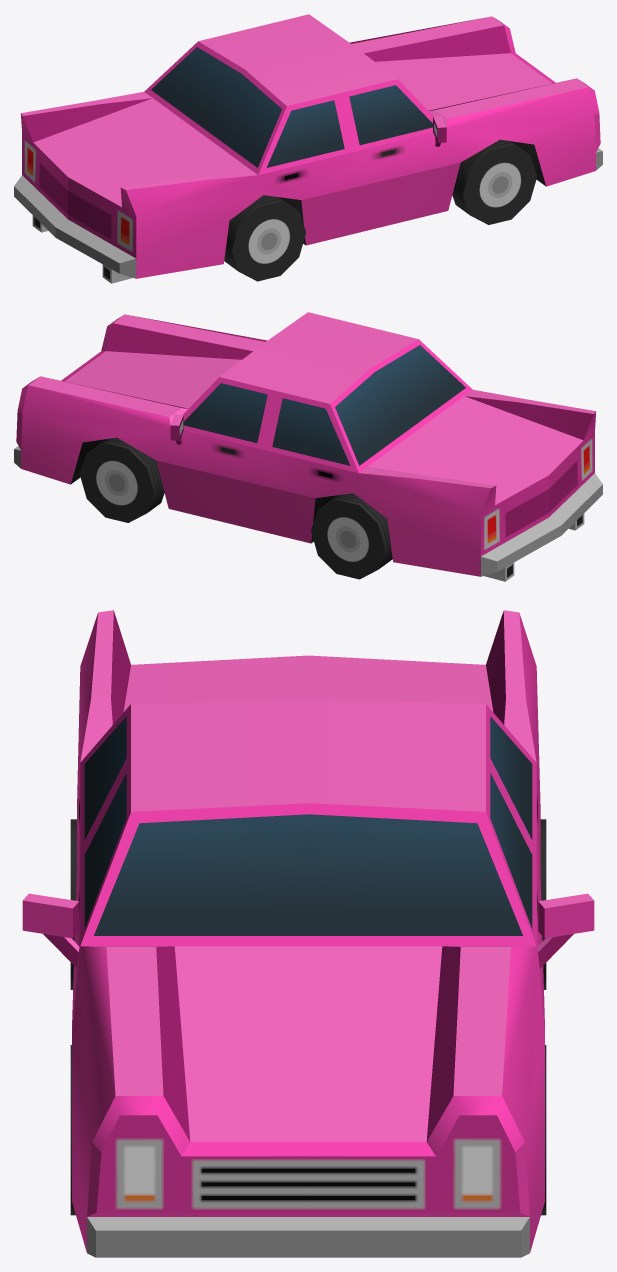
The model's file is Car_215.glb.
3 views of the same model, one above another, from view 1: azimuth 30°, elevation 25°; view 2: azimuth 150°, elevation 25°; view 3: azimuth 270°, elevation 25° (orthographic). The views are drawn at different scales.
Visible parts, largest first — view 1: Car_215, wheel_1_Car_215_Wheel_1R, wheel_3_Car_215_Wheel_2R; view 2: Car_215, wheel_0_Car_215_Wheel_1L, wheel_2_Car_215_Wheel_2L; view 3: Car_215.
Part boxes in pixels (<box>): Car_215: <box>14,14,602,283</box>; wheel_1_Car_215_Wheel_1R: <box>452,139,537,224</box>; wheel_3_Car_215_Wheel_2R: <box>224,195,305,281</box>; Car_215: <box>14,312,602,581</box>; wheel_0_Car_215_Wheel_1L: <box>79,437,164,522</box>; wheel_2_Car_215_Wheel_2L: <box>311,493,392,579</box>; Car_215: <box>22,610,594,1257</box>.
Size of the model in its own units: 4.14 by 1.26 by 2.08.
1 material, 1 textured.
